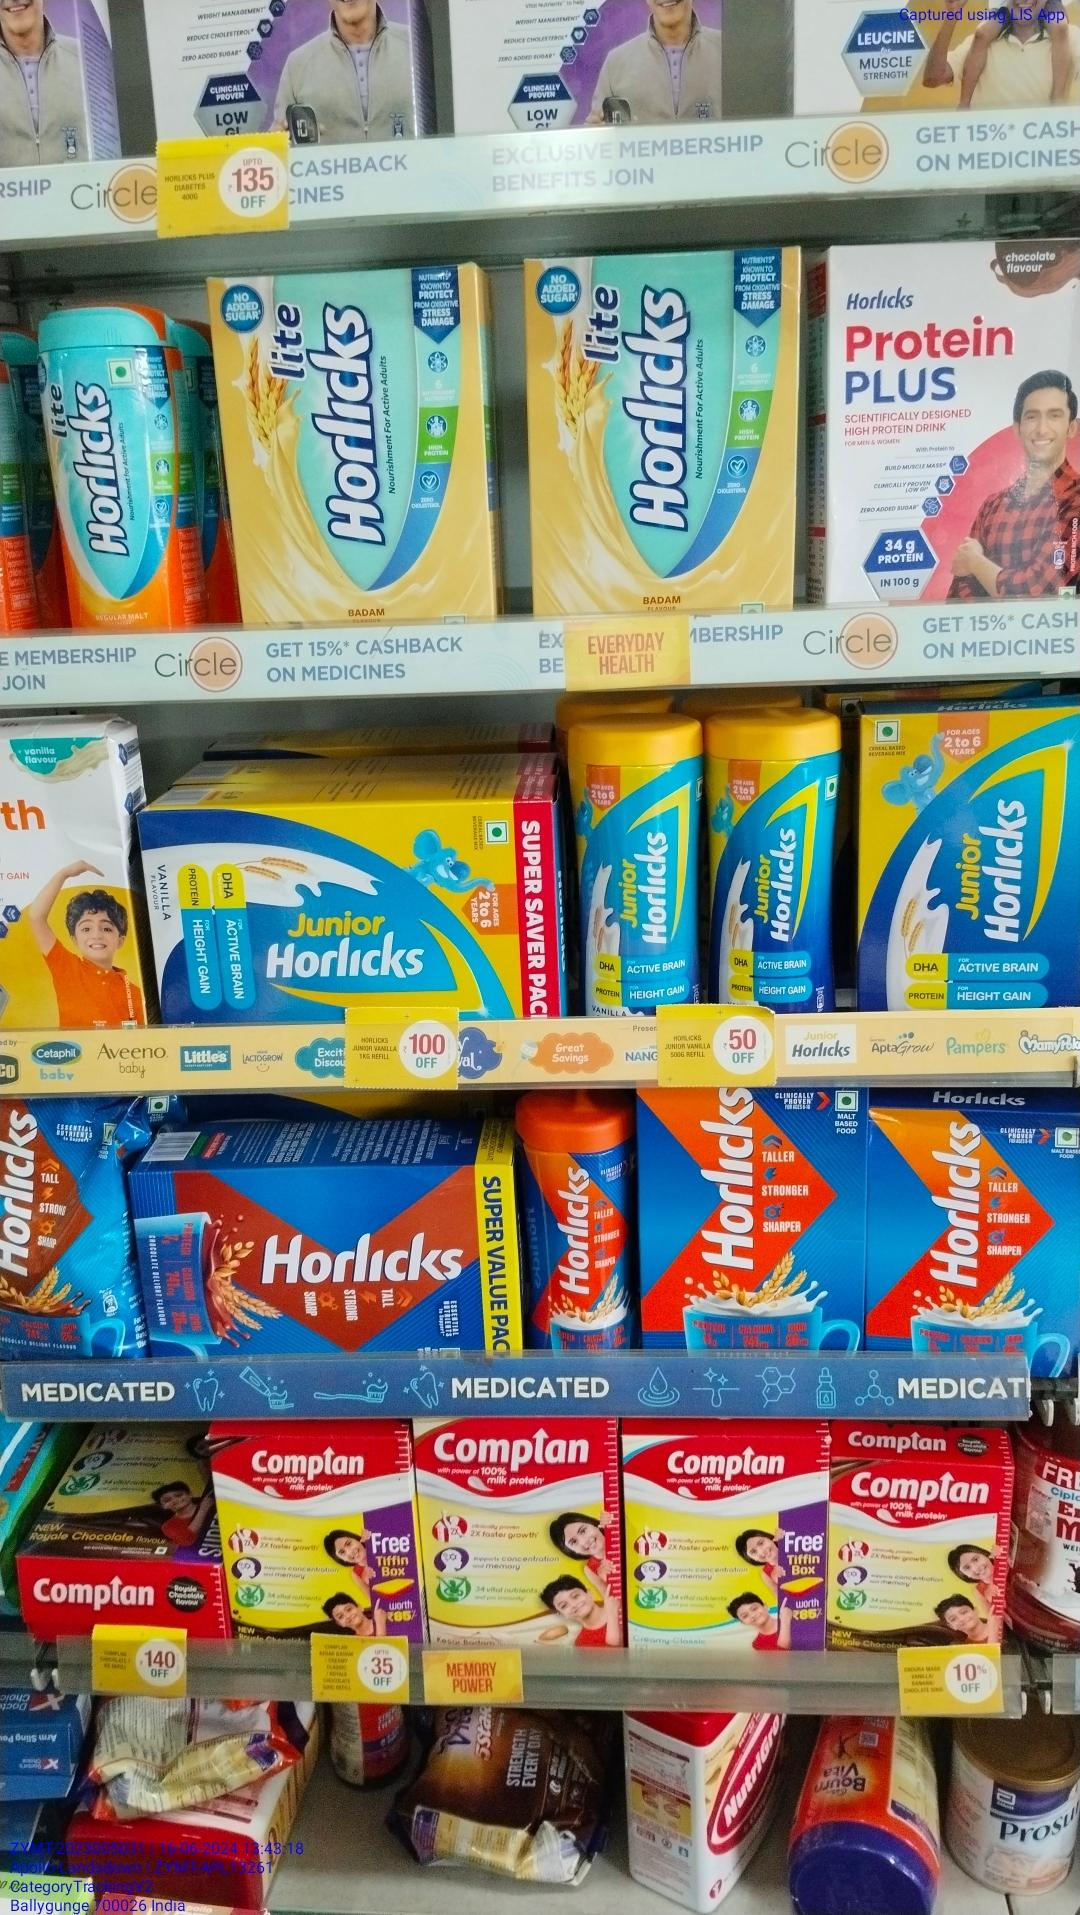COMPLAN_CREAMY_CLASSIC_500_G_PACK: (625, 1434, 826, 1656)
HORLICKS_JUNIOR_VANILLA_500_GM_JAR: (706, 727, 835, 993), (571, 727, 691, 1010)
HORLICKS_LITE_REGULAR_MALT_500_GM_JAR: (42, 304, 192, 634)
HORLICK_CLASSIC_MALT_500_G_JAR: (512, 1114, 627, 1355)
HORLICK_CLASSIC_MALT_500_G_PACK: (637, 1084, 856, 1353), (863, 1107, 1080, 1364)
